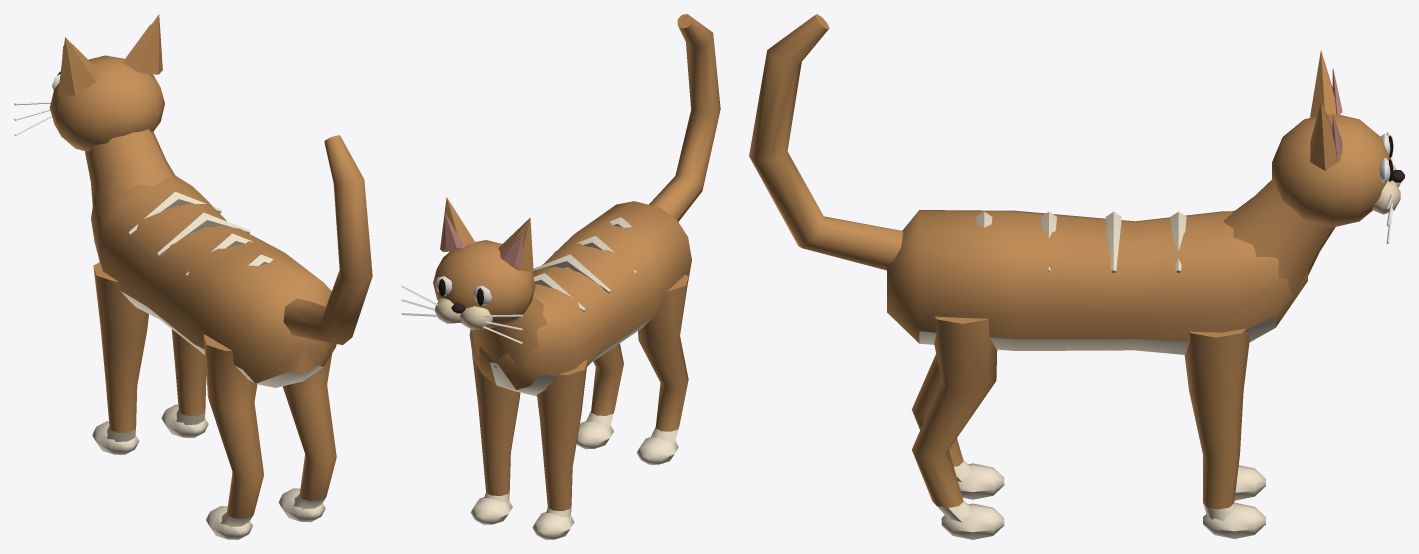
File: cat.glb
3 renders of one model, left to right at view 1: azimuth 30°, elevation 25°; view 2: azimuth 150°, elevation 25°; view 3: azimuth 270°, elevation 25°, orthographic. The views are drawn at different scales.
Visible parts, largest first — view 1: Body, Head, Tail, LegBL, LegFL, LegBR, LegFR; view 2: Body, Head, Tail, LegFL, LegBL, LegFR, LegBR; view 3: Body, Head, Tail, LegBR, LegFR, LegBL, LegFL.
Part boxes in pixels (bbox=[...]): Body: bbox=[85, 129, 336, 387]; Head: bbox=[14, 14, 164, 151]; Tail: bbox=[283, 135, 372, 344]; LegBL: bbox=[203, 334, 263, 539]; LegFL: bbox=[92, 262, 148, 454]; LegBR: bbox=[278, 353, 336, 522]; LegFR: bbox=[161, 329, 208, 438]; Body: bbox=[469, 201, 691, 396]; Head: bbox=[401, 197, 535, 343]; Tail: bbox=[649, 14, 720, 221]; LegFL: bbox=[532, 360, 587, 539]; LegBL: bbox=[636, 274, 688, 464]; LegFR: bbox=[470, 353, 520, 524]; LegBR: bbox=[576, 343, 623, 449]; Body: bbox=[887, 179, 1335, 354]; Head: bbox=[1272, 50, 1404, 243]; Tail: bbox=[749, 14, 903, 270]; LegBR: bbox=[912, 316, 1004, 539]; LegFR: bbox=[1184, 328, 1265, 538]; LegBL: bbox=[911, 354, 1004, 499]; LegFL: bbox=[1234, 465, 1265, 500].
Size of the model in its own units: 0.1646 by 0.5129 by 0.6076.
